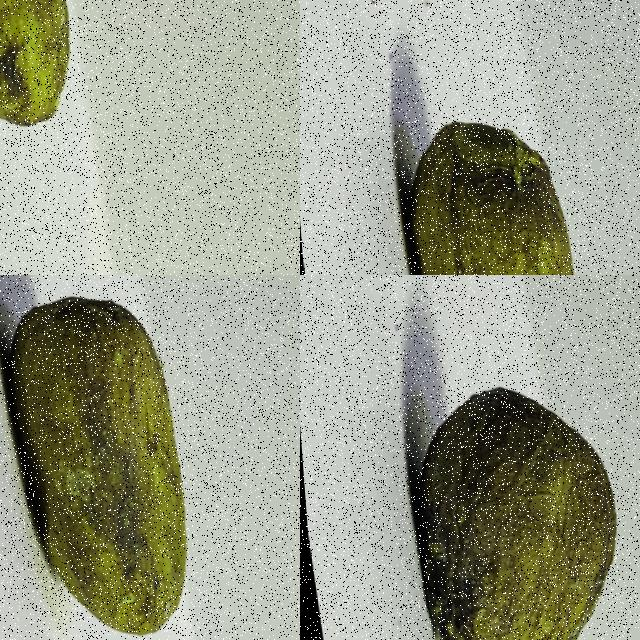Fine_cocoabeans: (350, 284, 639, 639), (0, 275, 223, 639), (366, 91, 614, 274), (0, 0, 88, 166)
